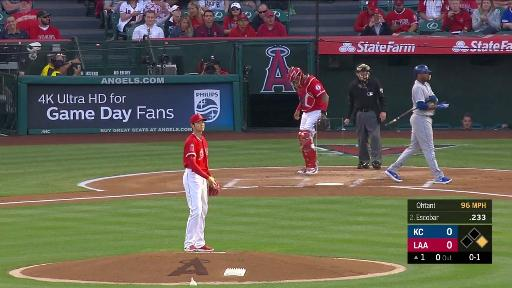pitcher: (184, 114, 222, 253)
